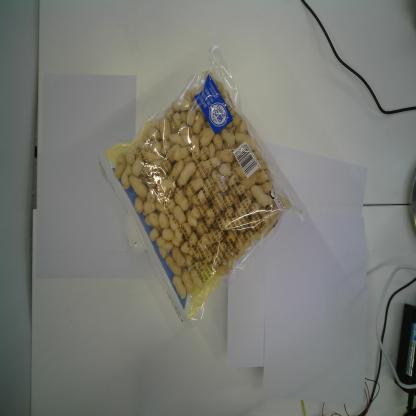Dried Food: (92, 39, 306, 339)
